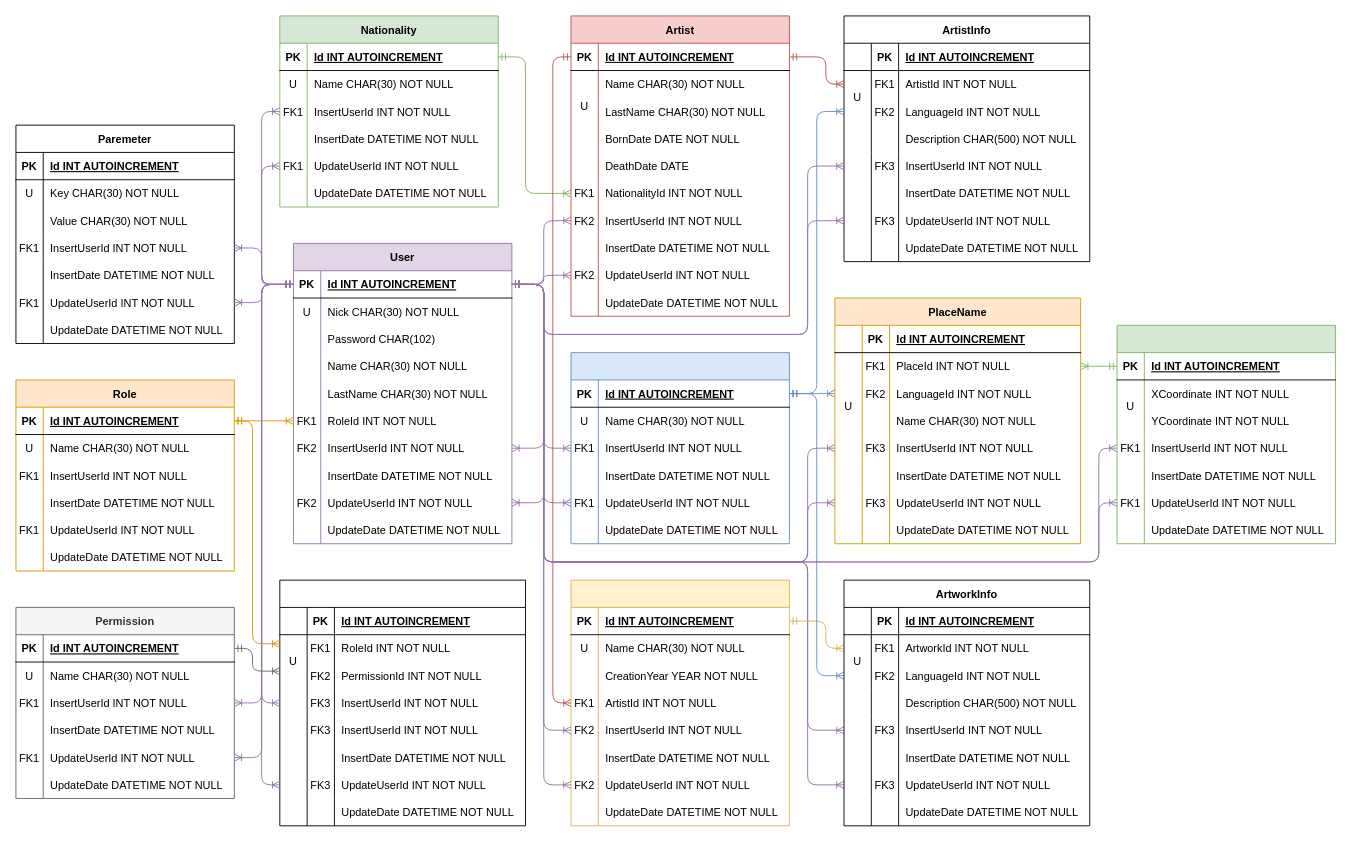
Image size: 1351x842. Some labels were removed from this diagram. The shapes that lost their labels are listed below. From the top down, each one's box as (x1, y1, x2, y2) in pixels, then its label:
(570, 352, 789, 544): Language
(1116, 324, 1335, 544): Place
(279, 579, 526, 826): RolePermission
(570, 579, 789, 826): Artwork
